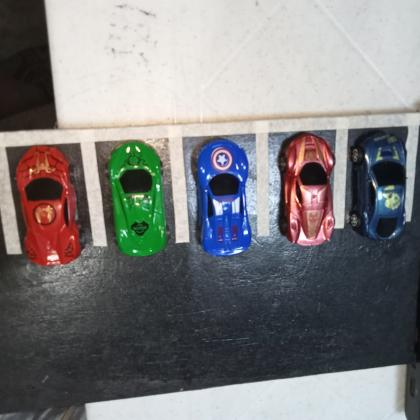Car: (13, 143, 86, 268), (104, 139, 169, 259), (274, 129, 337, 248), (191, 136, 252, 258), (351, 130, 408, 242)
